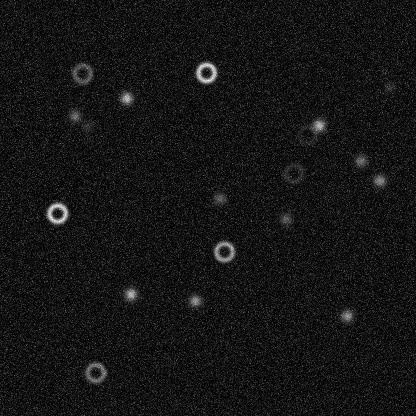Ring: (194, 60, 218, 84), (281, 161, 305, 185), (294, 122, 318, 146), (70, 61, 94, 85), (45, 201, 69, 225), (83, 360, 107, 384), (212, 239, 236, 263)
Spot: (78, 118, 94, 134), (211, 190, 227, 206), (371, 172, 387, 188), (338, 307, 354, 323), (381, 78, 397, 94), (122, 285, 138, 301), (66, 107, 82, 123), (352, 152, 368, 168), (277, 210, 293, 226), (186, 292, 202, 308), (118, 90, 134, 106), (310, 117, 326, 133)
